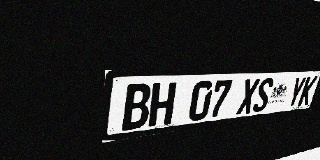0: (187, 80, 214, 122)
7: (207, 80, 233, 119)
B: (122, 83, 152, 131)
H: (148, 82, 177, 127)
K: (297, 76, 318, 106)
S: (251, 78, 275, 113)
X: (236, 79, 260, 115)
Y: (285, 77, 307, 108)
